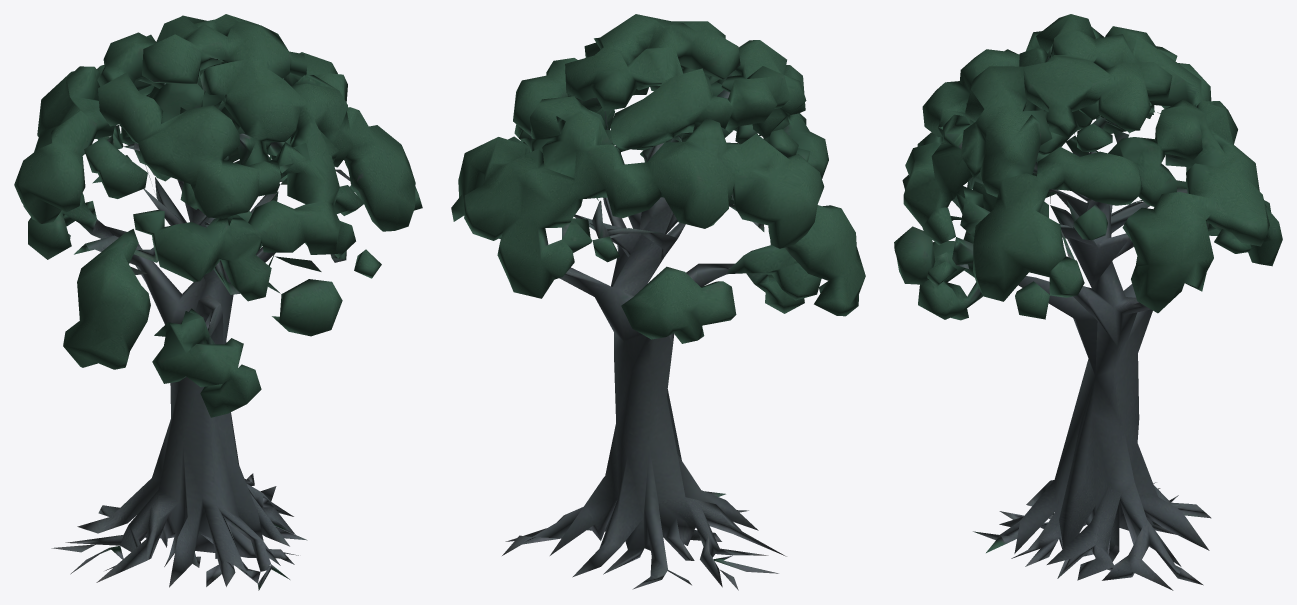
The model's file is prp_tree_oak_a.glb.
3 renders of one model, left to right at view 1: azimuth 30°, elevation 25°; view 2: azimuth 150°, elevation 25°; view 3: azimuth 270°, elevation 25°, orthographic. The views are drawn at different scales.
Visible parts, largest first — view 1: prp_tree_oak_a; view 2: prp_tree_oak_a; view 3: prp_tree_oak_a.
Part boxes in pixels (x1=…): prp_tree_oak_a: x1=14, y1=14, x2=422, y2=590; prp_tree_oak_a: x1=451, y1=14, x2=865, y2=590; prp_tree_oak_a: x1=894, y1=14, x2=1282, y2=590.
Bounding box in the file's own units: 8.46 × 12 × 8.31.
Materials: 1 (1 with a texture image).
